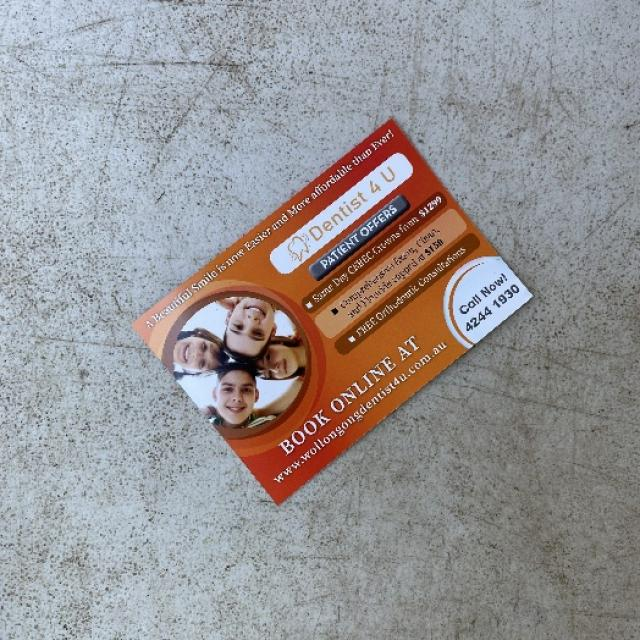inorganic: (131, 148, 562, 469)
